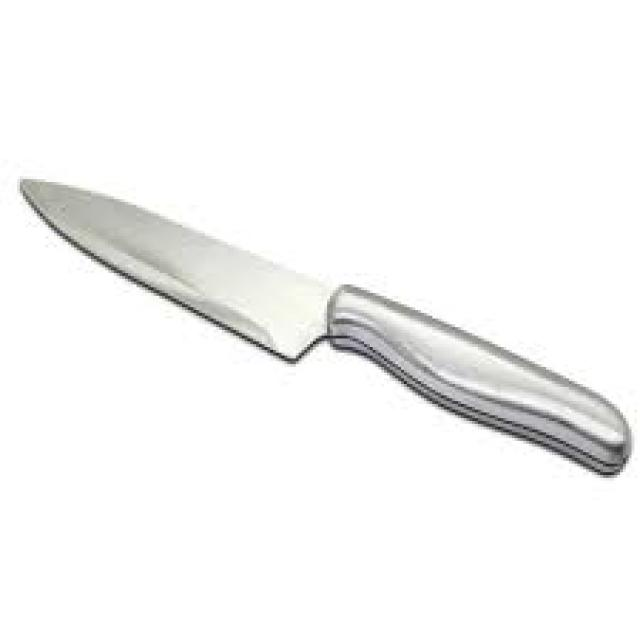Knife: (20, 176, 631, 475)
